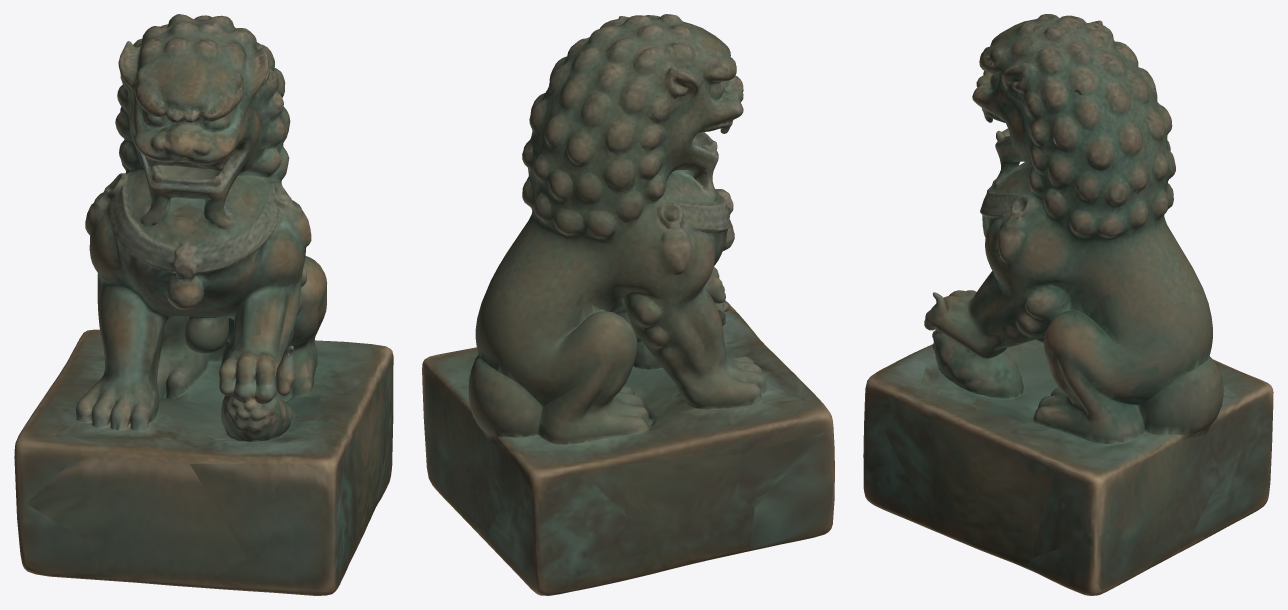
File: Artifact_CP3.fbx
3 views of the same model, side by side, from view 1: azimuth 30°, elevation 25°; view 2: azimuth 150°, elevation 25°; view 3: azimuth 270°, elevation 25° (orthographic). The views are drawn at different scales.
Parts seen in each view (by area): view 1: Body_CP3; view 2: Body_CP3; view 3: Body_CP3.
Boxes of the visible parts, box(x1,y1,x2,y2) form: Body_CP3: box(14, 14, 393, 595); Body_CP3: box(422, 14, 834, 595); Body_CP3: box(863, 14, 1273, 595).
Size of the model in its own units: 0.1614 by 0.2 by 0.1536.
